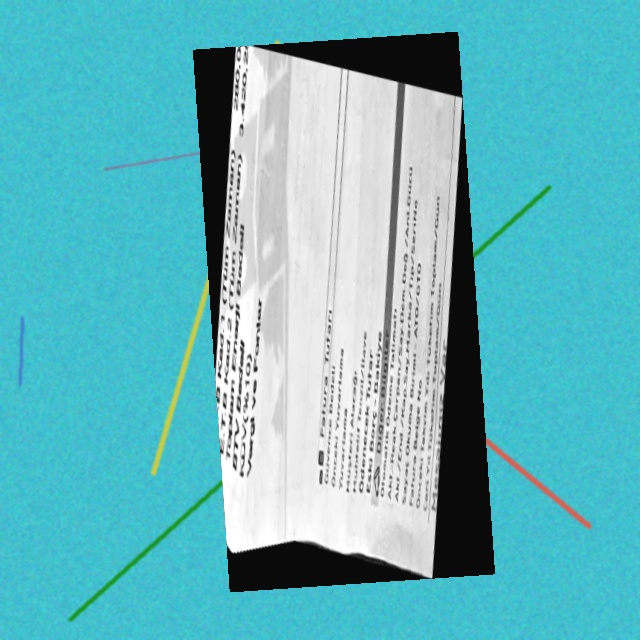electricity-bill: (193, 32, 495, 592)
